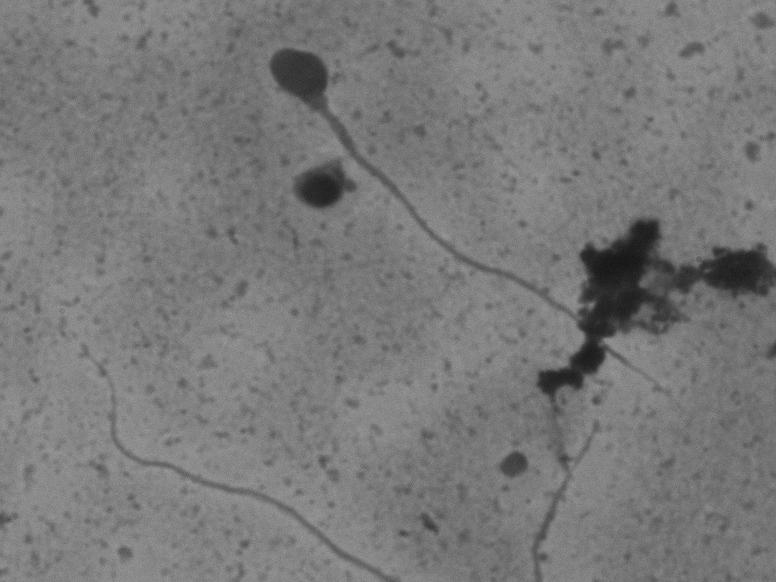Abnormal: (259, 34, 678, 399)
